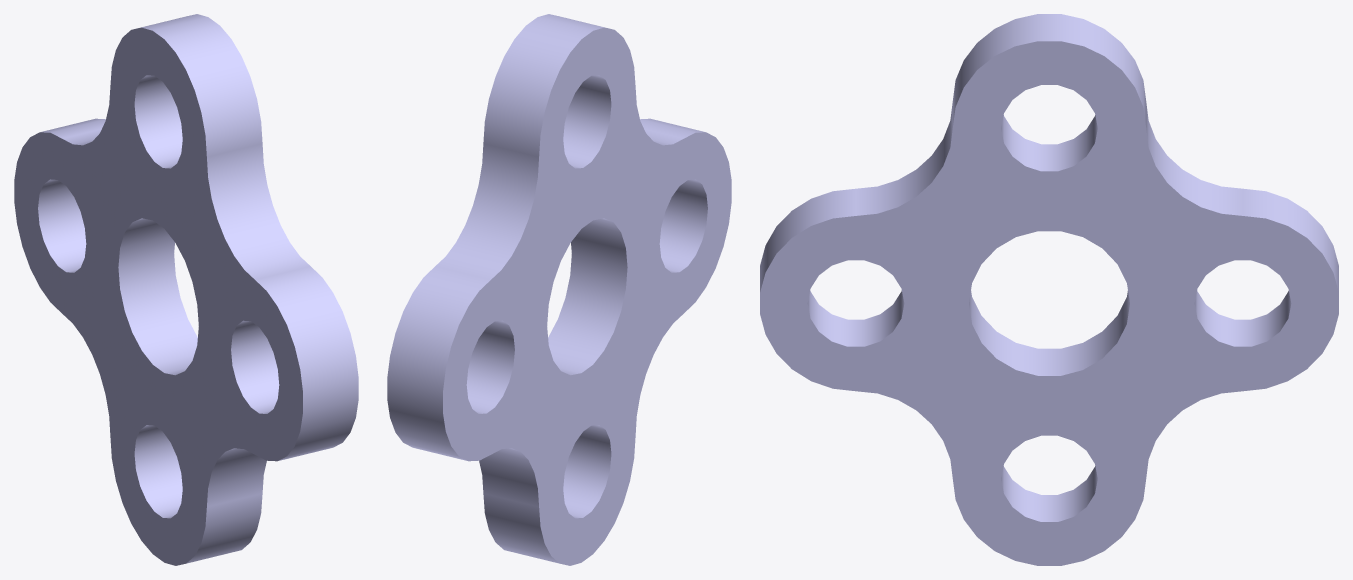
The model's file is 5 Placa 10.fbx.
The picture shows the model from 3 angles, left to right: view 1: azimuth 30°, elevation 25°; view 2: azimuth 150°, elevation 25°; view 3: azimuth 270°, elevation 25°; orthographic projection.
Visible parts, largest first — view 1: PartBody; view 2: PartBody; view 3: PartBody.
Boxes of the visible parts, x1,y1,x2,y2 form: PartBody: (14, 14, 358, 565); PartBody: (387, 14, 731, 565); PartBody: (760, 14, 1338, 565).
Bounding box in the file's own units: 0.7874 × 7.07 × 7.07.
